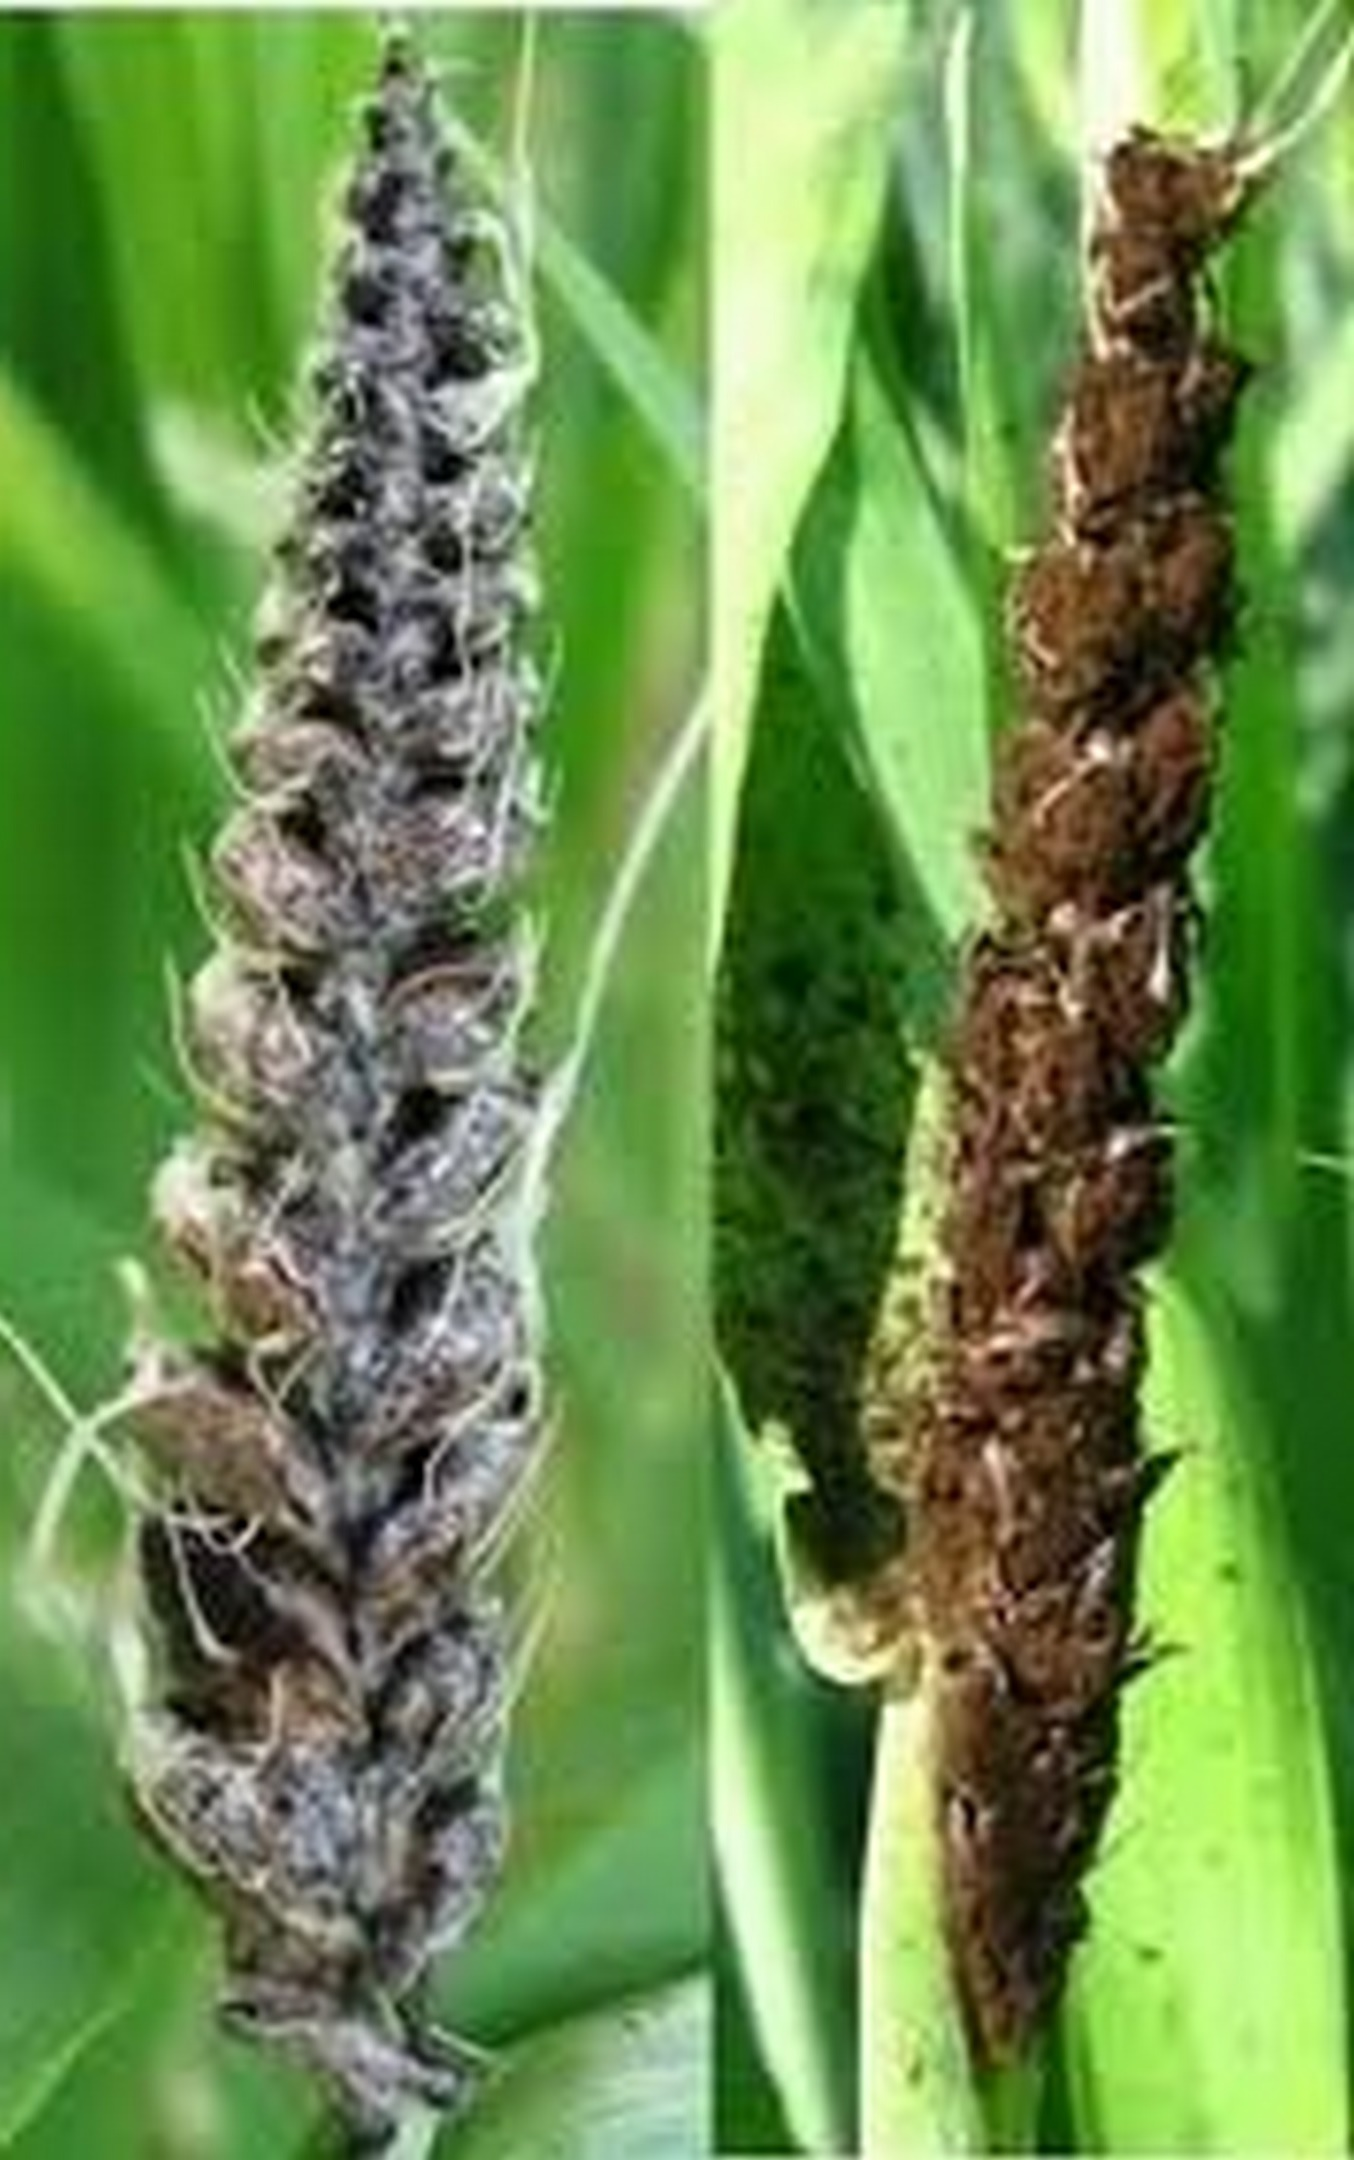Wheat Loose Smut: (92, 27, 594, 1949), (888, 111, 1296, 2009)
